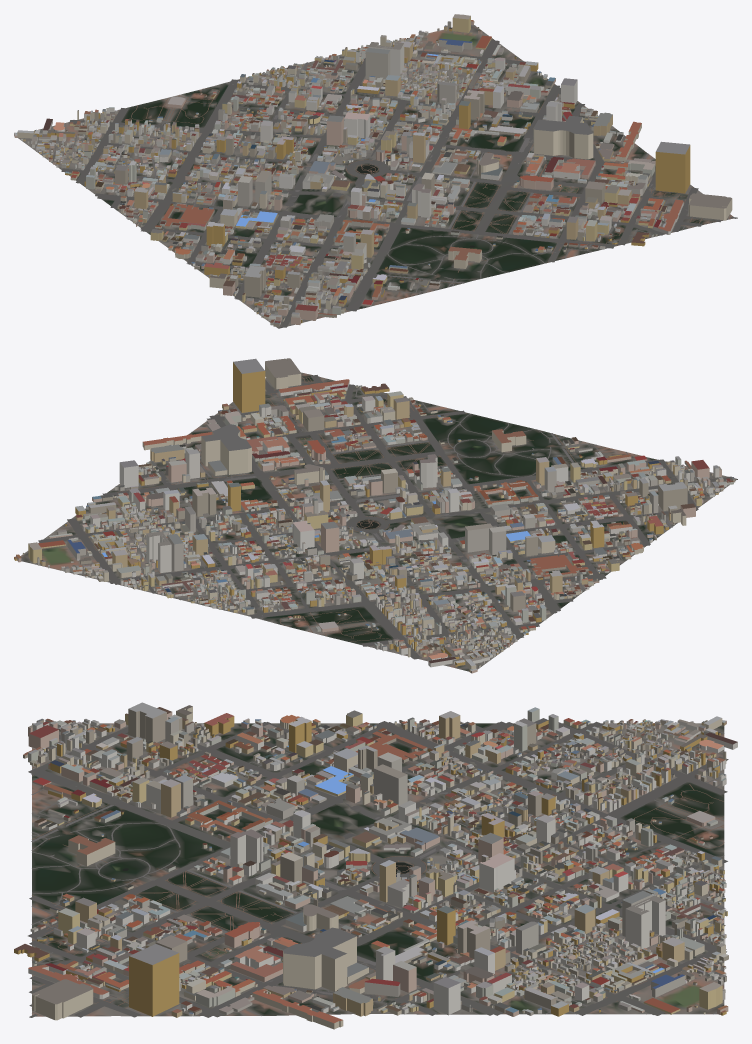
3 renders of one model, top to bottom at view 1: azimuth 30°, elevation 25°; view 2: azimuth 150°, elevation 25°; view 3: azimuth 270°, elevation 25°, orthographic. The views are drawn at different scales.
Visible parts, largest first — view 1: buildings, ground, roads; view 2: buildings, ground, roads; view 3: buildings, ground, roads.
Part boxes in pixels (x1,y1,x2,y2): buildings: (14,14,732,326); ground: (18,25,735,328); roads: (40,25,737,327); buildings: (14,358,735,673); ground: (20,372,737,671); roads: (21,373,731,668); buildings: (14,702,737,1029); ground: (32,723,724,1016); roads: (28,721,728,1017).
Bounding box in the file's own units: 1493 × 119 × 1464.
